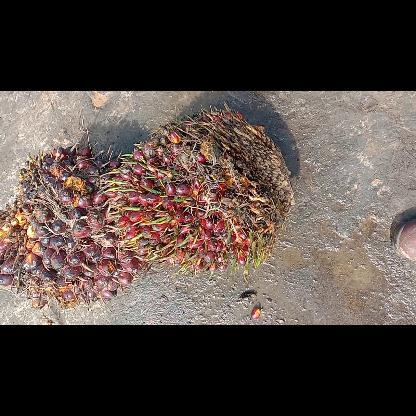Kurang masak: (100, 104, 292, 274)
TBS masak: (0, 142, 147, 309)
